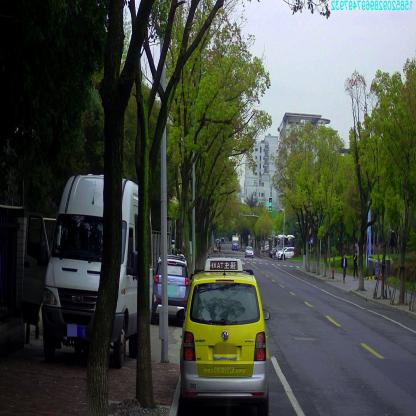traffic-light: (269, 197, 272, 211)
